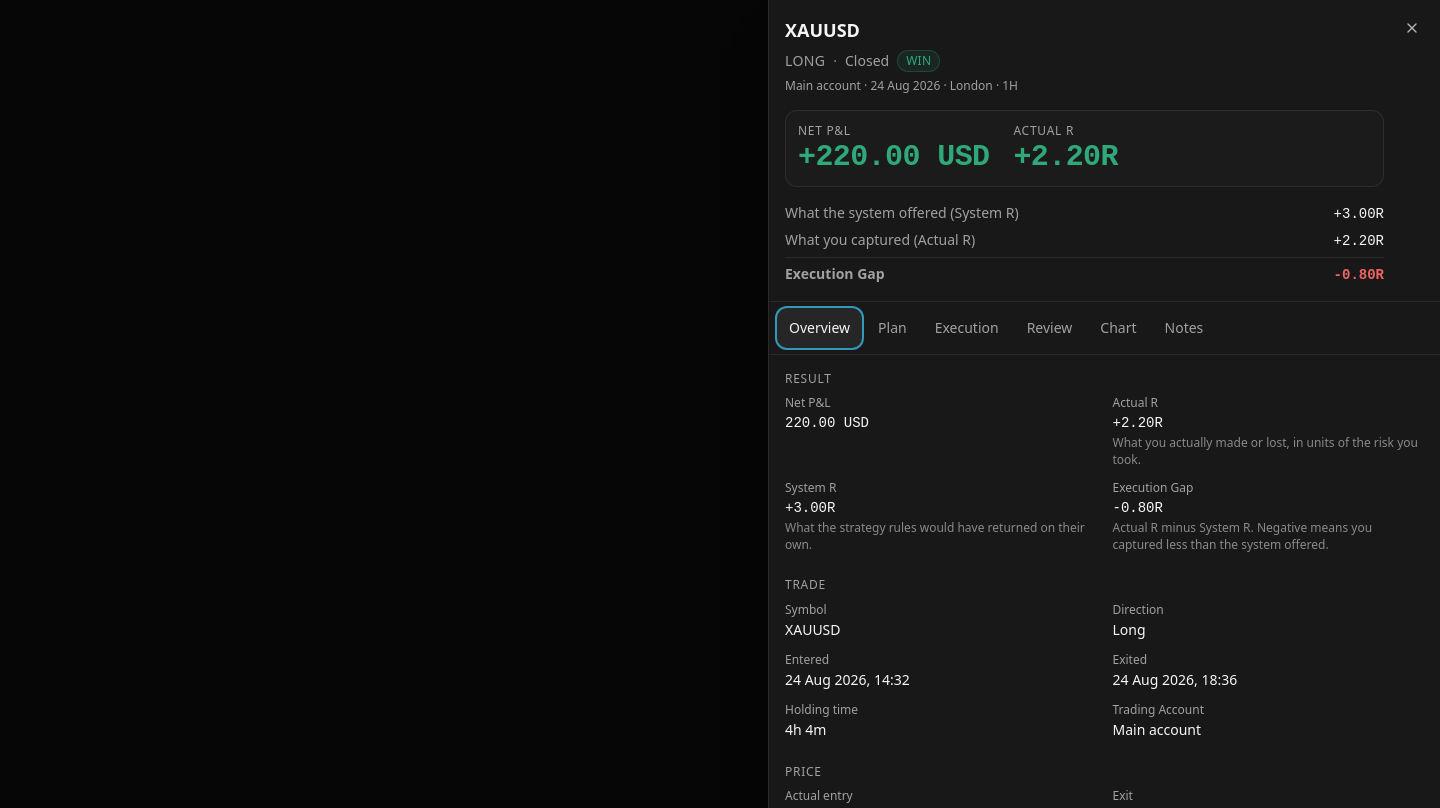
Trade Details — Chart and Notes › organises Notes around when they were written
Click the tab "Notes" at (1184, 328), box [1152, 308, 1215, 348]
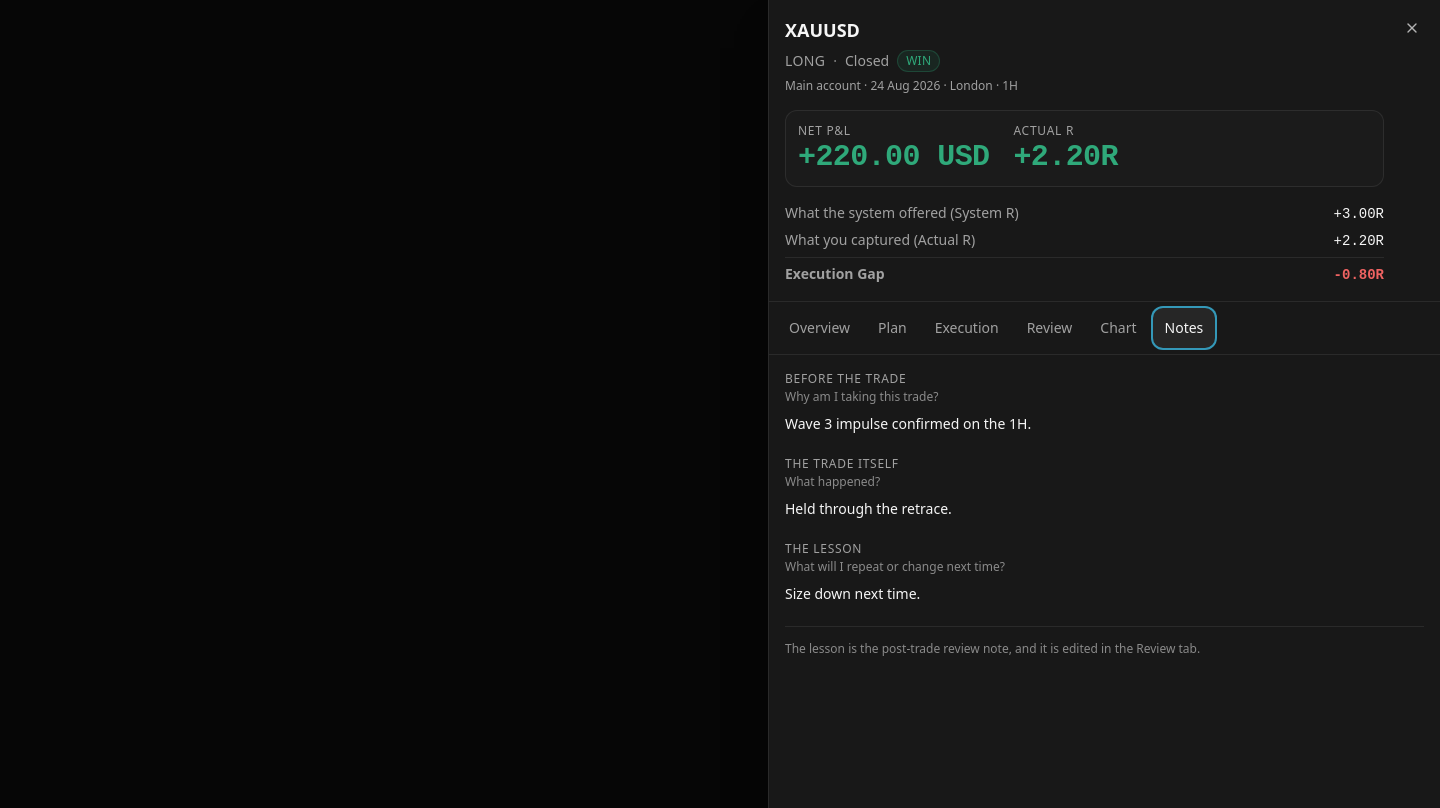
Expected: the heading "Before the trade" is shown, [785, 370, 906, 387]
Expected: the text "Why am I taking this trade?" is shown, [785, 388, 938, 405]
Expected: the heading "The trade itself" is shown, [785, 455, 899, 472]
